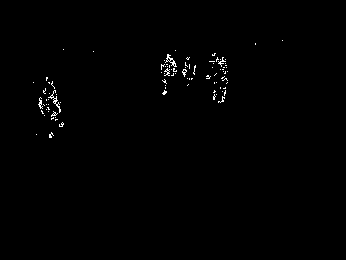person: (37, 77, 66, 138), (208, 52, 229, 106), (157, 50, 179, 97), (182, 51, 198, 94)
